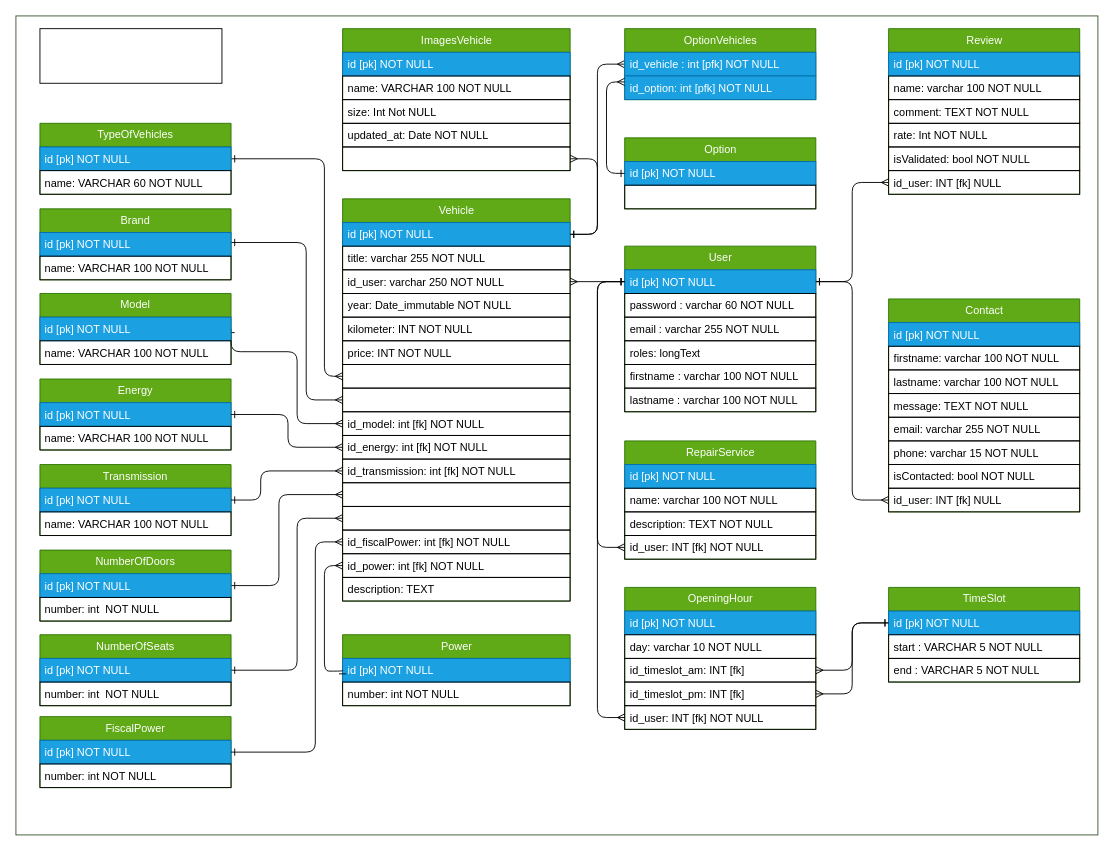
This 1114x851 diagram has some shape labels left out. Here are the shapes that lost their labels. From the top down, the centre of each, then its label:
the point at 130,55: diagram ER
the point at 456,158: id_Vehicle: TEXT NOT NULL
the point at 720,196: name: VARCHAR 255NOT NULL
the point at 456,376: id_typeOfVehicles: int [fk] NOT NULL
the point at 456,399: id_brand: int [fk] NOT NULL
the point at 456,494: id_numberOfDoors: int [fk] NOT NULL
the point at 456,518: id_numberOfSeats: int [fk] NOT NULL
